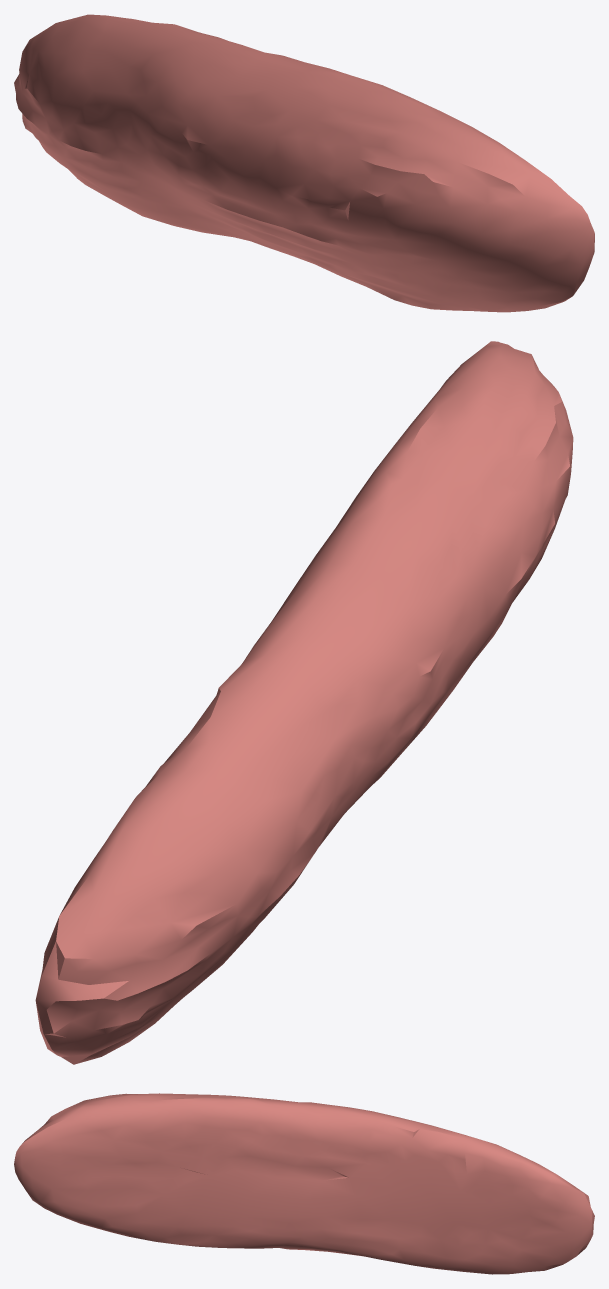
Rendered from fma46713_mm1143m.glb.
3 renders of one model, top to bottom at view 1: azimuth 30°, elevation 25°; view 2: azimuth 150°, elevation 25°; view 3: azimuth 270°, elevation 25°, orthographic. The views are drawn at different scales.
Visible parts, largest first — view 1: FMA46713_MM1143M; view 2: FMA46713_MM1143M; view 3: FMA46713_MM1143M.
Boxes of the visible parts, x1=… form: FMA46713_MM1143M: x1=14, y1=14, x2=594, y2=312; FMA46713_MM1143M: x1=35, y1=341, x2=573, y2=1064; FMA46713_MM1143M: x1=14, y1=1093, x2=594, y2=1274.
Size of the model in its own units: 0.00803 by 0.0122 by 0.0355.
